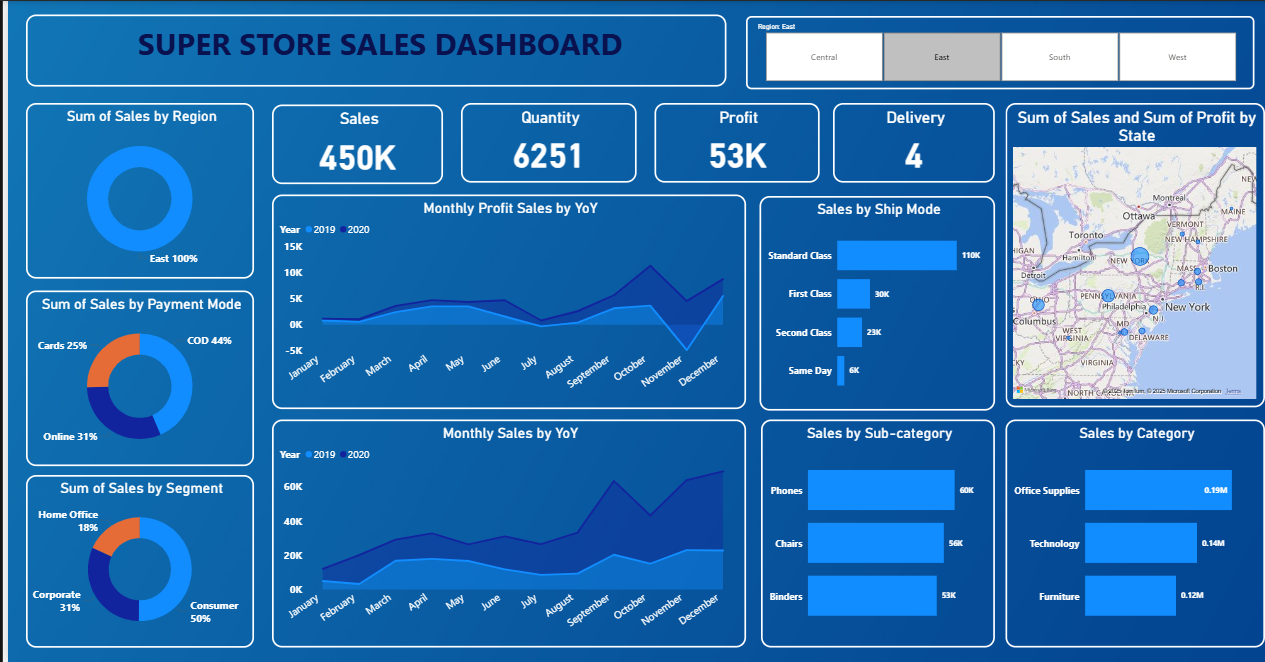

The dashboard page shown, as its layout file describes it:
{"tool":"powerbi","page":{"name":"Page 1","canvas":[2000,1056],"ordinal":0},"visuals":[{"type":"clusteredBarChart","title":"Sales by Category","fields":{"Category":["SuperStore_Sales_Dataset.Category"],"Y":["Sum(SuperStore_Sales_Dataset.Sales)"]},"box":[1586.4,665.6,412.7,362.6],"z":0},{"type":"clusteredBarChart","title":"Sales by Sub-category","fields":{"Y":["Sum(SuperStore_Sales_Dataset.Sales)"],"Category":["SuperStore_Sales_Dataset.Sub-Category"]},"box":[1197.6,665.6,372.2,362.6],"z":1000},{"type":"clusteredBarChart","title":"Sales by Ship Mode","fields":{"Y":["Sum(SuperStore_Sales_Dataset.Sales)"],"Category":["SuperStore_Sales_Dataset.Ship Mode"]},"box":[1195.2,310.1,374.5,341.1],"z":2000},{"type":"stackedAreaChart","title":"Monthly Sales by YoY","fields":{"Y":["Sum(SuperStore_Sales_Dataset.Sales)"],"Category":["SuperStore_Sales_Dataset.Order Date.Variation.Date Hierarchy.Month","SuperStore_Sales_Dataset.Order Date.Variation.Date Hierarchy.Day"],"Series":["SuperStore_Sales_Dataset.Order Date.Variation.Date Hierarchy.Year"]},"box":[419.9,665.6,753.8,362.6],"z":3000},{"type":"stackedAreaChart","title":"Monthly Profit Sales by YoY","fields":{"Category":["SuperStore_Sales_Dataset.Order Date.Variation.Date Hierarchy.Month","SuperStore_Sales_Dataset.Order Date.Variation.Date Hierarchy.Day"],"Series":["SuperStore_Sales_Dataset.Order Date.Variation.Date Hierarchy.Year"],"Y":["Sum(SuperStore_Sales_Dataset.Profit)"]},"box":[419.9,307.7,753.8,341.1],"z":4000},{"type":"map","fields":{"Category":["SuperStore_Sales_Dataset.State"],"Size":["Sum(SuperStore_Sales_Dataset.Sales)"]},"box":[1586.4,162.2,412.7,484.3],"z":5000},{"type":"donutChart","fields":{"Category":["SuperStore_Sales_Dataset.Segment"],"Y":["Sum(SuperStore_Sales_Dataset.Sales)"]},"box":[28.6,753.8,362.6,274.3],"z":6000},{"type":"donutChart","fields":{"Category":["SuperStore_Sales_Dataset.Payment Mode"],"Y":["Sum(SuperStore_Sales_Dataset.Sales)"]},"box":[28.6,460.4,362.6,279.1],"z":7000},{"type":"slicer","fields":{"Values":["SuperStore_Sales_Dataset.Region"]},"box":[1173.7,23.9,808.7,116.9],"z":8000},{"type":"textbox","box":[28.6,21.5,1114.1,114.5],"z":9000},{"type":"card","title":"Sales","fields":{"Values":["Sum(SuperStore_Sales_Dataset.Sales)"]},"box":[419.9,164.6,272,126.4],"z":10000},{"type":"card","title":"Quantity","fields":{"Values":["Sum(SuperStore_Sales_Dataset.Quantity)"]},"box":[720.5,162.2,279.1,126.4],"z":11000},{"type":"card","title":"Profit","fields":{"Values":["Sum(SuperStore_Sales_Dataset.Profit)"]},"box":[1028.2,162.2,262.4,126.4],"z":12000},{"type":"card","title":"Delivery","fields":{"Values":["Avg(SuperStore_Sales_Dataset.AvgDelivery)"]},"box":[1312.1,162.2,257.6,126.4],"z":13000},{"type":"donutChart","fields":{"Category":["SuperStore_Sales_Dataset.Region"],"Y":["Sum(SuperStore_Sales_Dataset.Sales)"]},"box":[28.6,162.2,362.6,279.1],"z":13001}]}

Visuals, with their boxes in screenshot pixels (x1, y1, x2, y2), scaled from the page's 2000x1056 canvas onto the 1265x662 screenshot:
"Sales by Category" clusteredBarChart: <bbox>1003, 417, 1264, 645</bbox>
"Sales by Sub-category" clusteredBarChart: <bbox>757, 417, 993, 645</bbox>
"Sales by Ship Mode" clusteredBarChart: <bbox>756, 194, 993, 408</bbox>
"Monthly Sales by YoY" stackedAreaChart: <bbox>266, 417, 742, 645</bbox>
"Monthly Profit Sales by YoY" stackedAreaChart: <bbox>266, 193, 742, 407</bbox>
map - SuperStore_Sales_Dataset.State x Sum(SuperStore_Sales_Dataset.Sales): <bbox>1003, 102, 1264, 405</bbox>
donutChart - SuperStore_Sales_Dataset.Segment x Sum(SuperStore_Sales_Dataset.Sales): <bbox>18, 473, 247, 645</bbox>
donutChart - SuperStore_Sales_Dataset.Payment Mode x Sum(SuperStore_Sales_Dataset.Sales): <bbox>18, 289, 247, 464</bbox>
slicer - SuperStore_Sales_Dataset.Region: <bbox>742, 15, 1254, 88</bbox>
textbox: <bbox>18, 13, 723, 85</bbox>
"Sales" card: <bbox>266, 103, 438, 182</bbox>
"Quantity" card: <bbox>456, 102, 632, 181</bbox>
"Profit" card: <bbox>650, 102, 816, 181</bbox>
"Delivery" card: <bbox>830, 102, 993, 181</bbox>
donutChart - SuperStore_Sales_Dataset.Region x Sum(SuperStore_Sales_Dataset.Sales): <bbox>18, 102, 247, 277</bbox>
